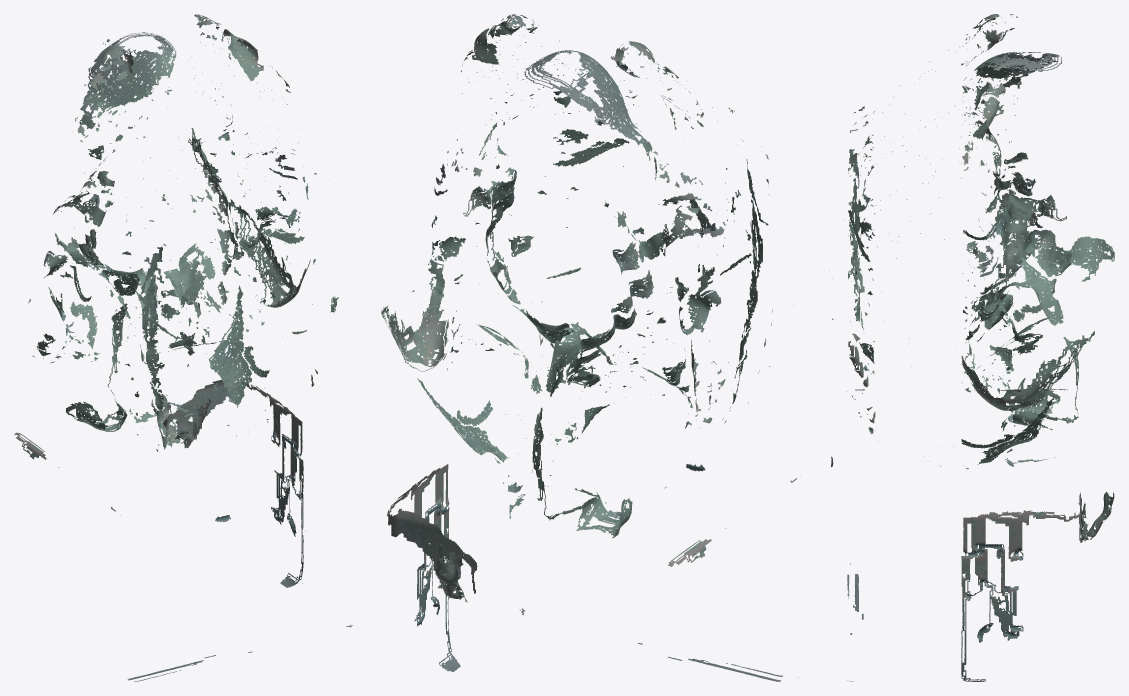
File: cthulhu17_material_0.015_lev1.glb
The picture shows the model from 3 angles, left to right: view 1: azimuth 30°, elevation 25°; view 2: azimuth 150°, elevation 25°; view 3: azimuth 270°, elevation 25°; orthographic projection. The views are drawn at different scales.
Visible parts, largest first — view 1: cthulhu17_material_0.015_lev1; view 2: cthulhu17_material_0.015_lev1; view 3: cthulhu17_material_0.015_lev1.
Boxes of the visible parts, x1,y1,x2,y2 form: cthulhu17_material_0.015_lev1: [14, 14, 352, 681]; cthulhu17_material_0.015_lev1: [381, 14, 800, 681]; cthulhu17_material_0.015_lev1: [829, 14, 1114, 681].
Size of the model in its own units: 2.82 by 5.53 by 2.43.
